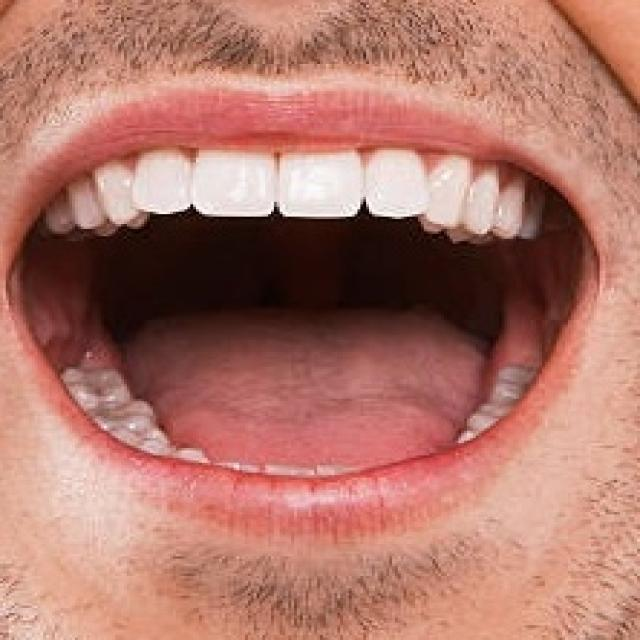open-mouth: (0, 78, 618, 552)
